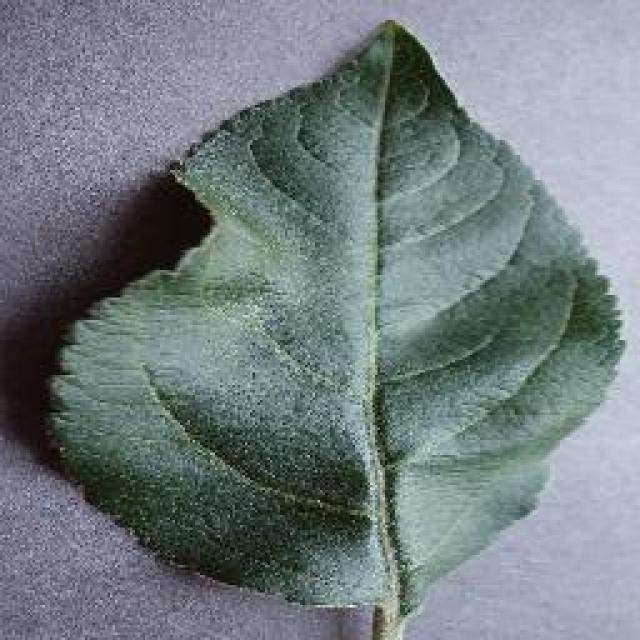apple healthy: (40, 15, 628, 637)
